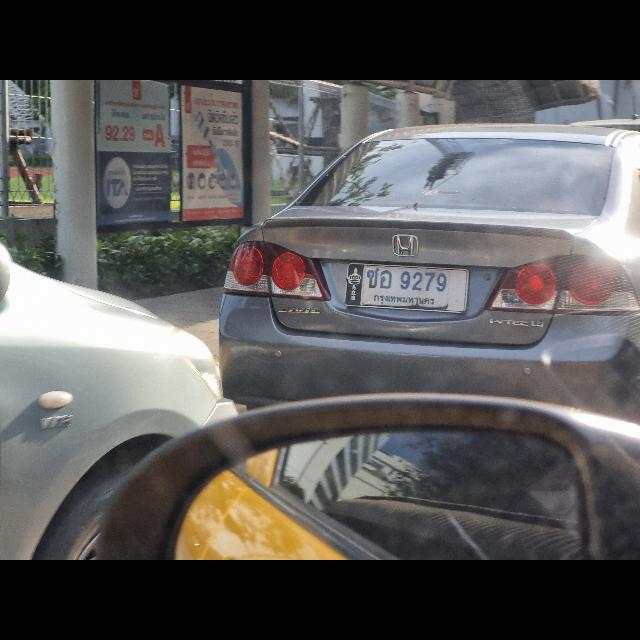licenseplate: (346, 260, 468, 314)
